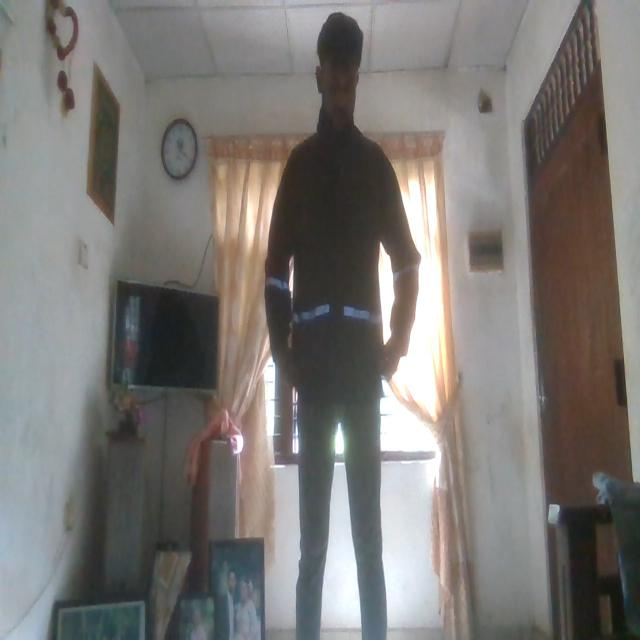Helmet_Wearer: (268, 120, 424, 397)
Person: (266, 6, 424, 633)
